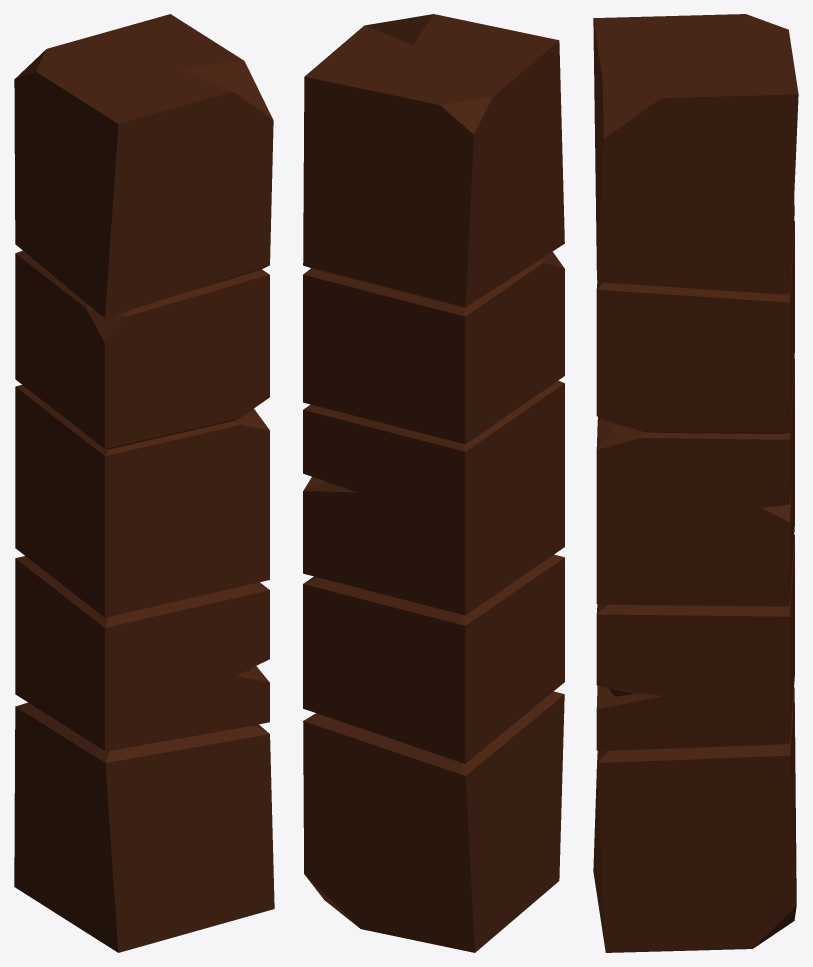
File: PAREDE_MEIO_01.fbx
The picture shows the model from 3 angles, left to right: view 1: azimuth 30°, elevation 25°; view 2: azimuth 150°, elevation 25°; view 3: azimuth 270°, elevation 25°; orthographic projection. The views are drawn at different scales.
Parts seen in each view (by area): view 1: Cube.003; view 2: Cube.003; view 3: Cube.003.
Boxes of the visible parts, bbox=[...] form: Cube.003: bbox=[14, 14, 274, 952]; Cube.003: bbox=[303, 14, 564, 952]; Cube.003: bbox=[593, 14, 798, 952].
Bounding box in the file's own units: 45.86 × 210 × 45.86.
